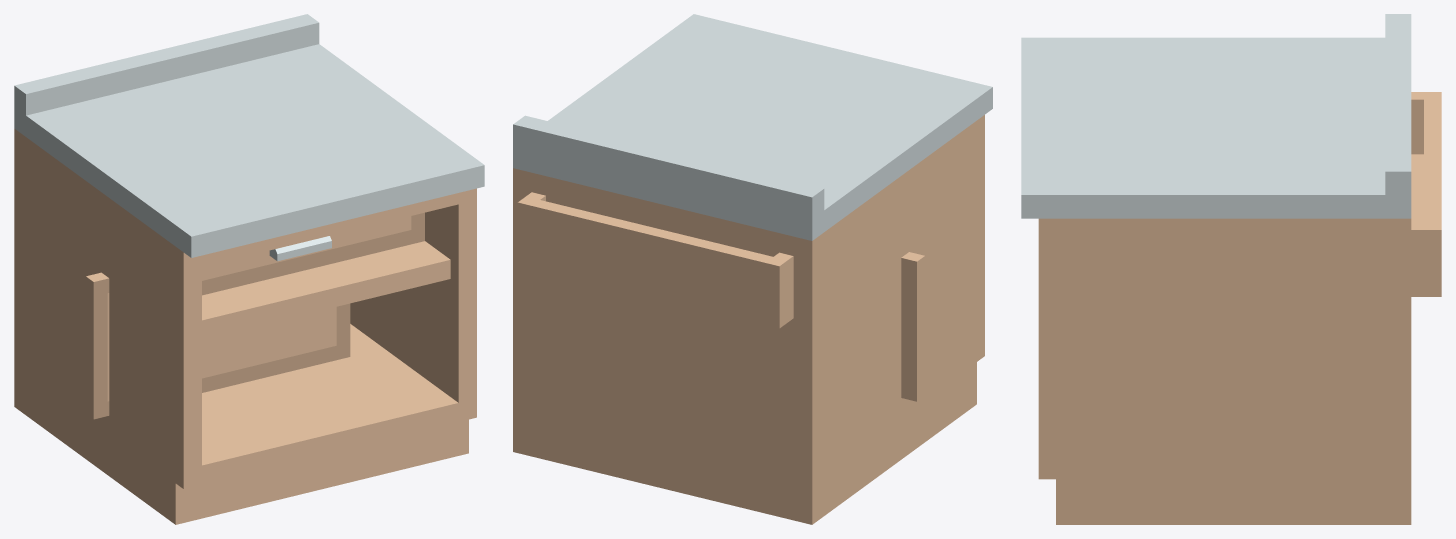
Rendered from kitchenCabinetDrawer.glb.
3 views of the same model, side by side, from view 1: azimuth 30°, elevation 25°; view 2: azimuth 150°, elevation 25°; view 3: azimuth 270°, elevation 25° (orthographic). The views are drawn at different scales.
Parts seen in each view (by area): view 1: kitchenCabinetDrawer, kitchenCabinetDrawer.001, kitchenCabinetDrawer.002; view 2: kitchenCabinetDrawer, kitchenCabinetDrawer.002, kitchenCabinetDrawer.001; view 3: kitchenCabinetDrawer, kitchenCabinetDrawer.002.
Part boxes in pixels (bbox=[...]): kitchenCabinetDrawer: bbox=[14, 14, 484, 524]; kitchenCabinetDrawer.001: bbox=[86, 272, 350, 419]; kitchenCabinetDrawer.002: bbox=[202, 212, 424, 295]; kitchenCabinetDrawer: bbox=[513, 14, 992, 524]; kitchenCabinetDrawer.002: bbox=[517, 192, 793, 328]; kitchenCabinetDrawer.001: bbox=[901, 252, 924, 401]; kitchenCabinetDrawer: bbox=[1021, 14, 1411, 524]; kitchenCabinetDrawer.002: bbox=[1411, 92, 1441, 296].
Bounding box in the file's own units: 1.31 × 1.31 × 1.41.
